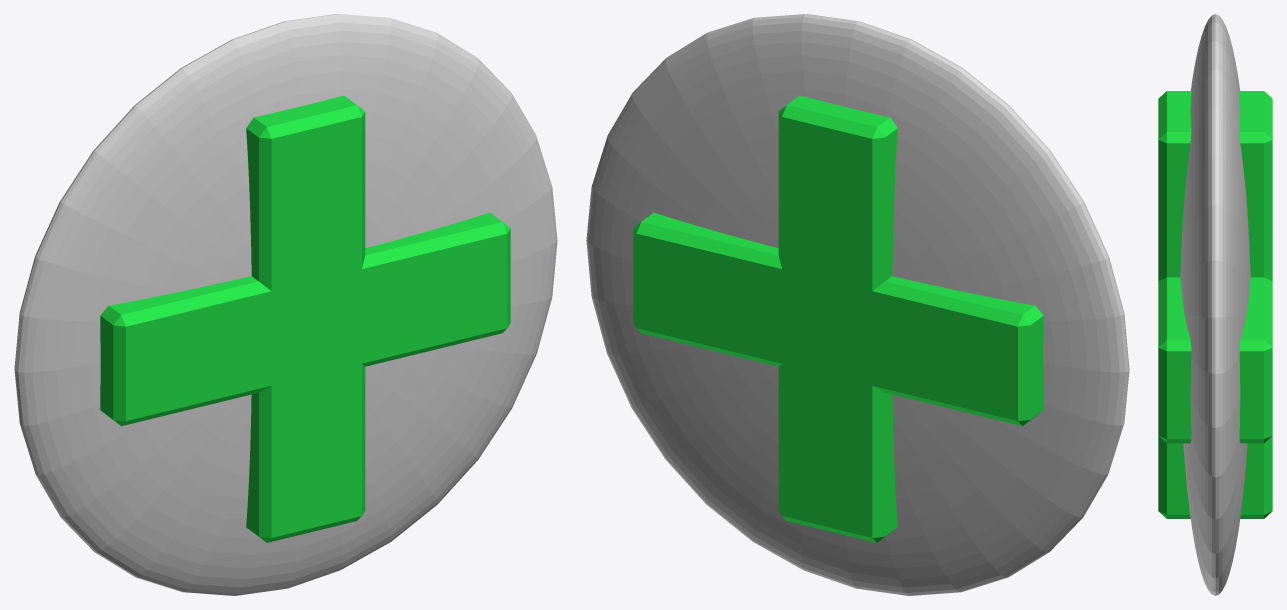
The model's file is Plus.fbx.
The picture shows the model from 3 angles, left to right: view 1: azimuth 30°, elevation 25°; view 2: azimuth 150°, elevation 25°; view 3: azimuth 270°, elevation 25°; orthographic projection. The views are drawn at different scales.
Parts seen in each view (by area): view 1: Plus; view 2: Plus; view 3: Plus.
Part boxes in pixels (left/top/right/bottom): Plus: left=14, top=14, right=557, bottom=595; Plus: left=586, top=14, right=1129, bottom=595; Plus: left=1158, top=14, right=1272, bottom=595.
Size of the model in its own units: 5587 by 5587 by 1097.
